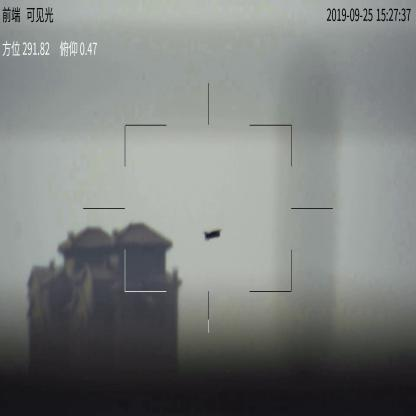uav: (204, 228, 222, 241)
